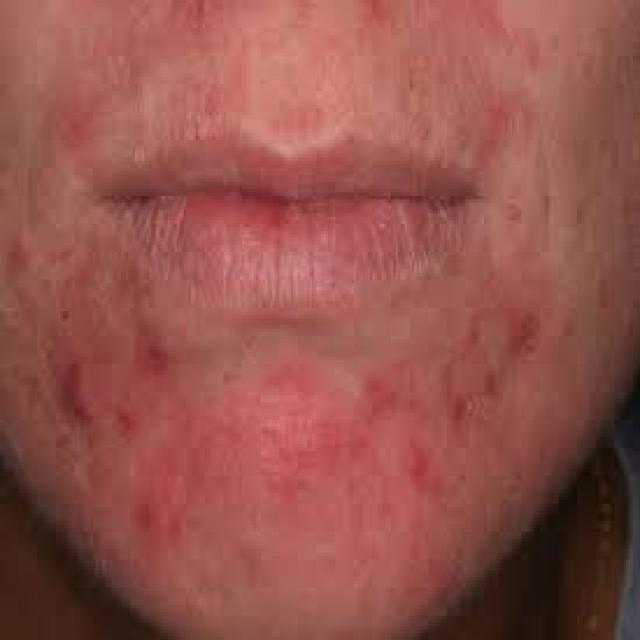Eczema: (42, 282, 543, 479)
